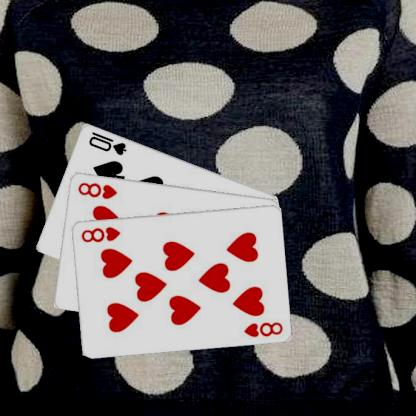10S: (87, 128, 130, 156)
8H: (77, 179, 120, 200), (80, 224, 123, 244), (242, 319, 286, 338)
